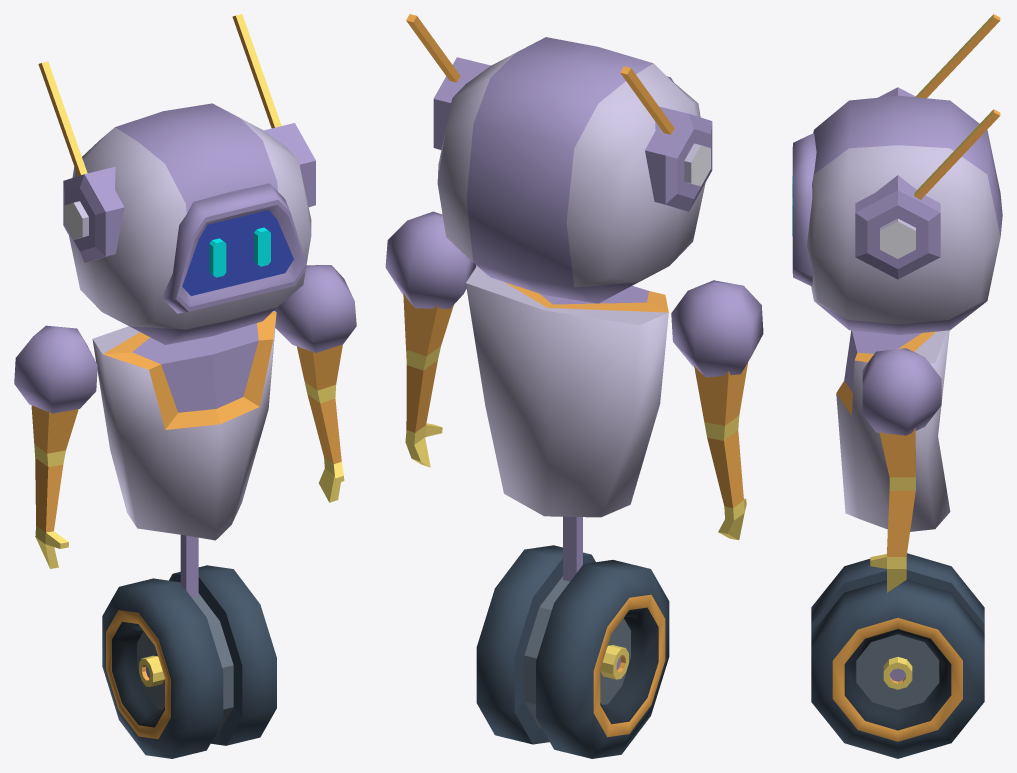
Rendered from Player_Anim.fbx.
3 views of the same model, side by side, from view 1: azimuth 30°, elevation 25°; view 2: azimuth 150°, elevation 25°; view 3: azimuth 270°, elevation 25° (orthographic). The views are drawn at different scales.
Parts seen in each view (by area): view 1: polySurface5, Cube, Wheel, Arm Right, Arm Left, polySurface8, polySurface9, polySurface6, polySurface2; view 2: polySurface5, Cube, Wheel, Arm Right, Arm Left, polySurface8, polySurface9; view 3: polySurface5, Wheel, Cube, Arm Left, polySurface9, polySurface8.
Boxes of the visible parts, left/top/right/bottom form: polySurface5: left=69, top=103, right=311, bottom=344; Cube: left=92, top=311, right=276, bottom=540; Wheel: left=102, top=535, right=276, bottom=758; Arm Right: left=14, top=325, right=97, bottom=568; Arm Left: left=274, top=265, right=356, bottom=502; polySurface8: left=38, top=61, right=124, bottom=262; polySurface9: left=232, top=14, right=315, bottom=207; polySurface6: left=209, top=238, right=226, bottom=277; polySurface2: left=254, top=227, right=270, bottom=266; polySurface5: left=437, top=37, right=705, bottom=303; Cube: left=465, top=266, right=668, bottom=517; Wheel: left=476, top=516, right=669, bottom=758; Arm Right: left=671, top=280, right=763, bottom=540; Arm Left: left=385, top=211, right=476, bottom=467; polySurface8: left=620, top=66, right=712, bottom=211; polySurface9: left=406, top=14, right=490, bottom=149; polySurface5: left=792, top=95, right=1002, bottom=334; Wheel: left=811, top=553, right=984, bottom=758; Cube: left=836, top=330, right=950, bottom=531; Arm Left: left=862, top=348, right=941, bottom=592; polySurface9: left=855, top=109, right=1000, bottom=279; polySurface8: left=878, top=14, right=1000, bottom=98.
Size of the model in its own units: 352 by 680 by 192.
